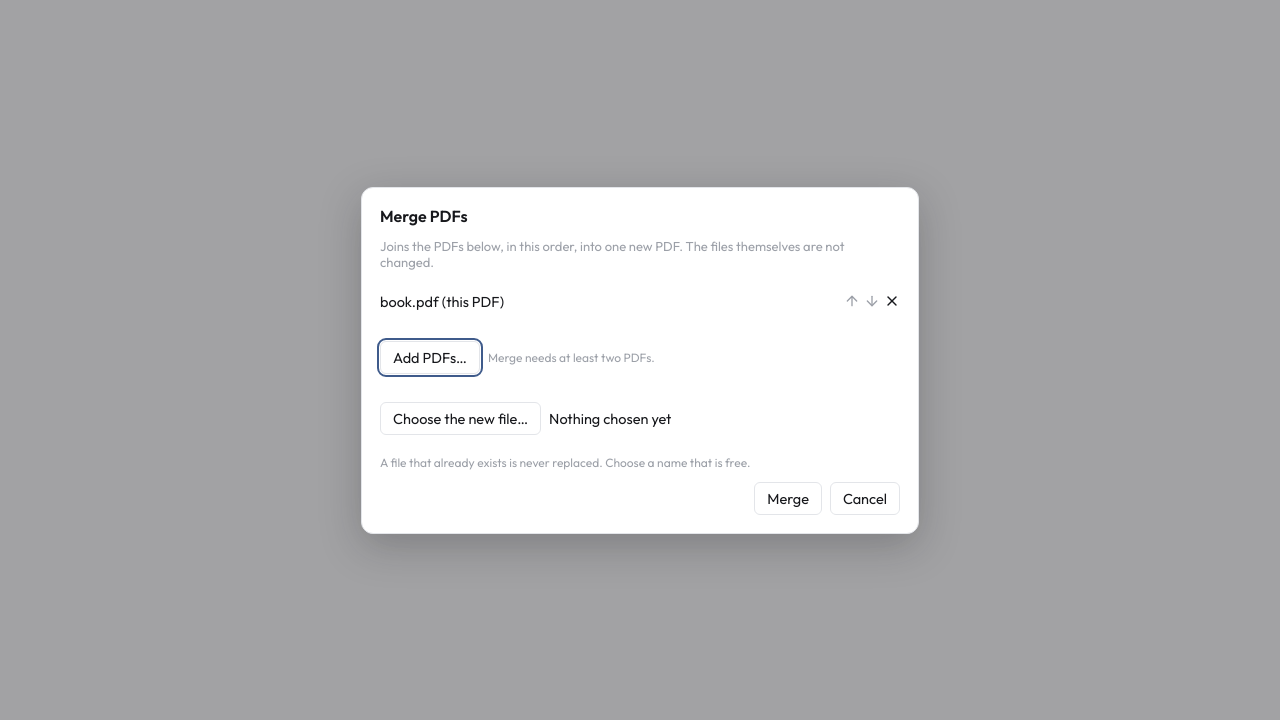
Test: a_failed_merge_says_nothing_was_written_and_keeps_the_list
The width and height of the screenshot is (1280, 720).
Click the button "Add PDFs…". click: click(430, 357)
box: [380, 340, 480, 374]
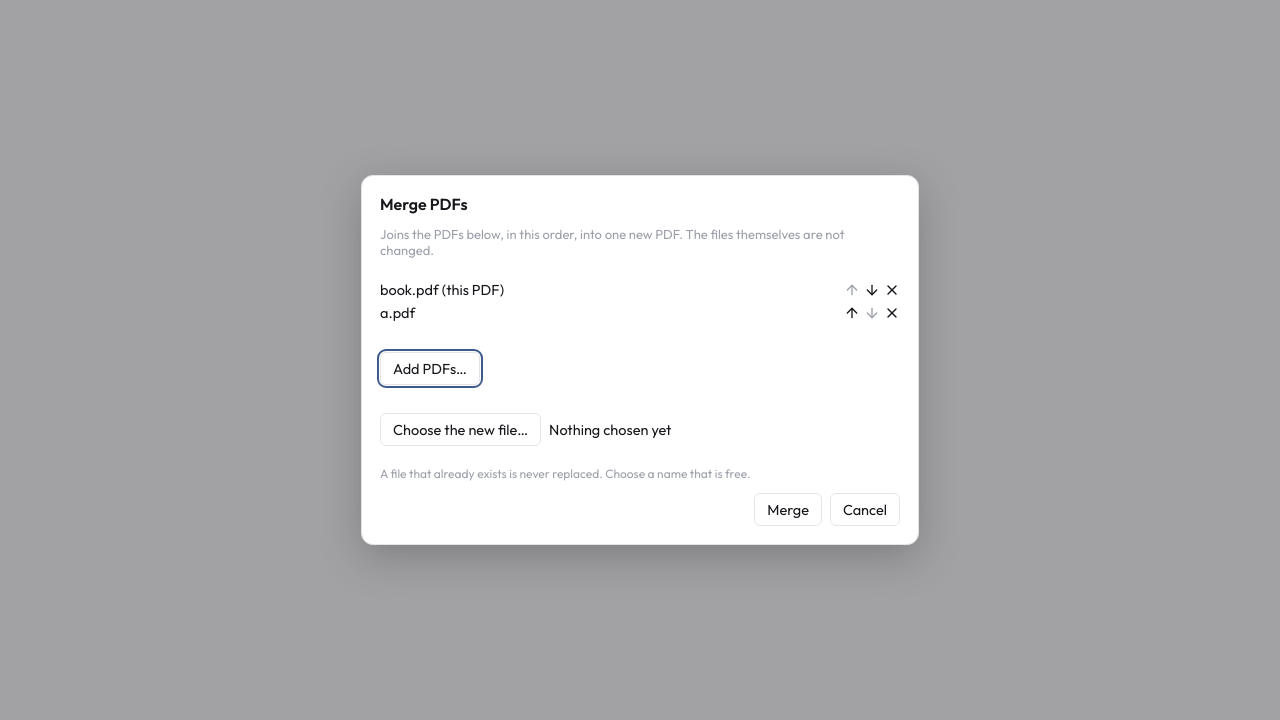
Expected: the number of list items is 2, [380, 278, 900, 301]; [380, 301, 900, 324]
Click the button "Choose the new file…". click: click(461, 430)
box: [380, 413, 541, 446]
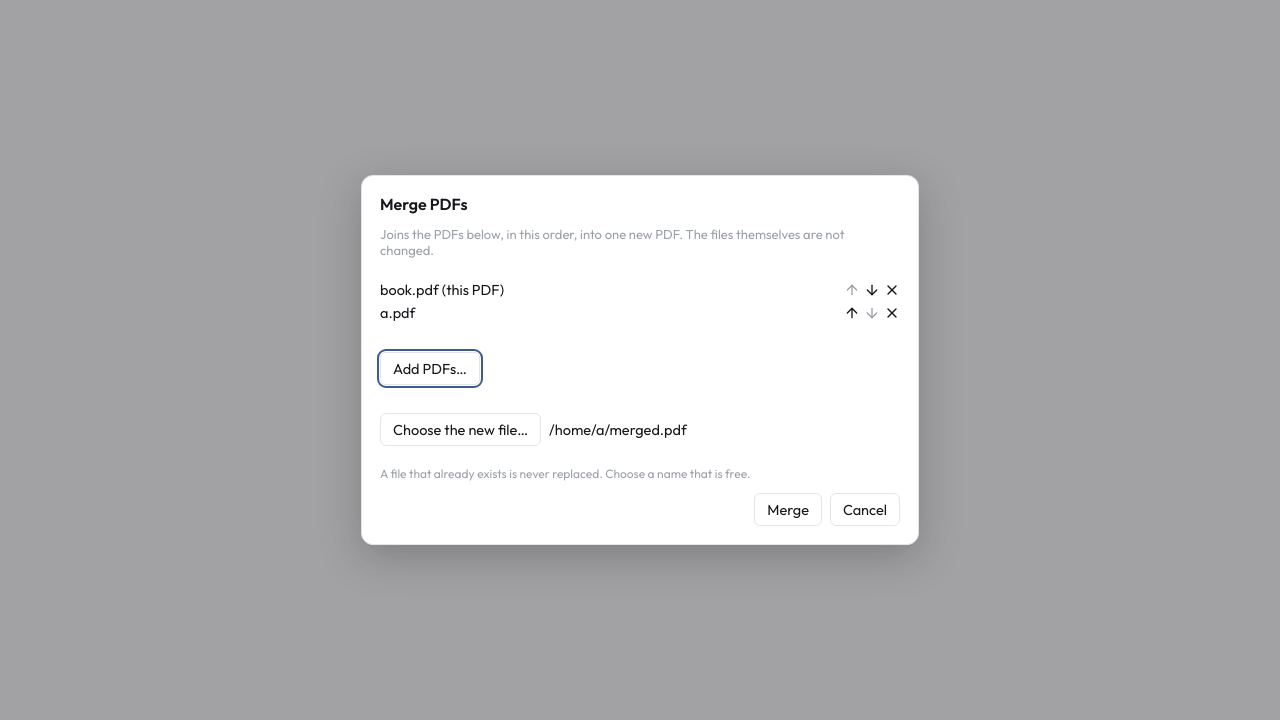
Expected: the text with test id "pdf-job-target" shows "merged.pdf", [549, 420, 687, 439]
Click the button "Merge". click: click(788, 510)
box: [754, 493, 822, 526]
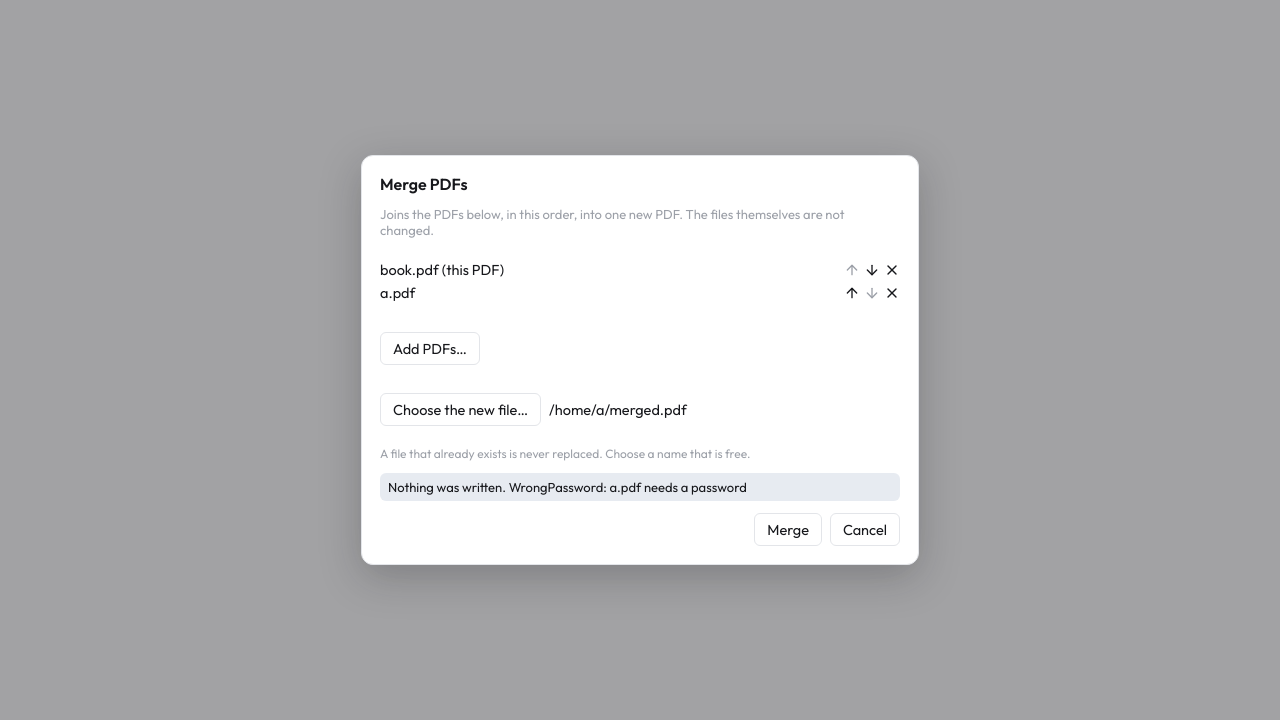
Expected: the message with test id "pdf-job-failed" reads "Nothing was written. WrongPassword: a.pdf needs a password", [388, 479, 747, 495]
